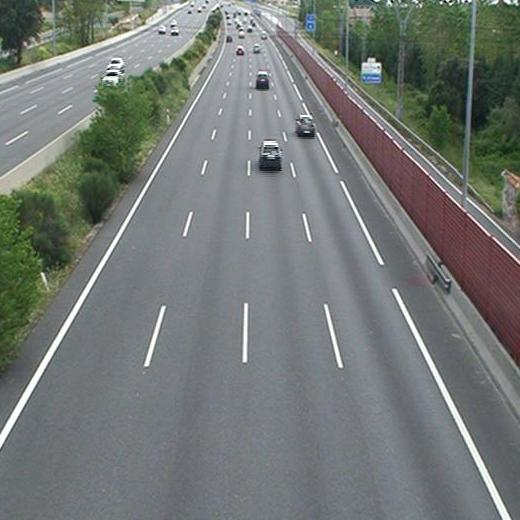car: (260, 142, 282, 163), (296, 115, 314, 134), (255, 71, 269, 85), (235, 45, 245, 56), (252, 43, 260, 53)
